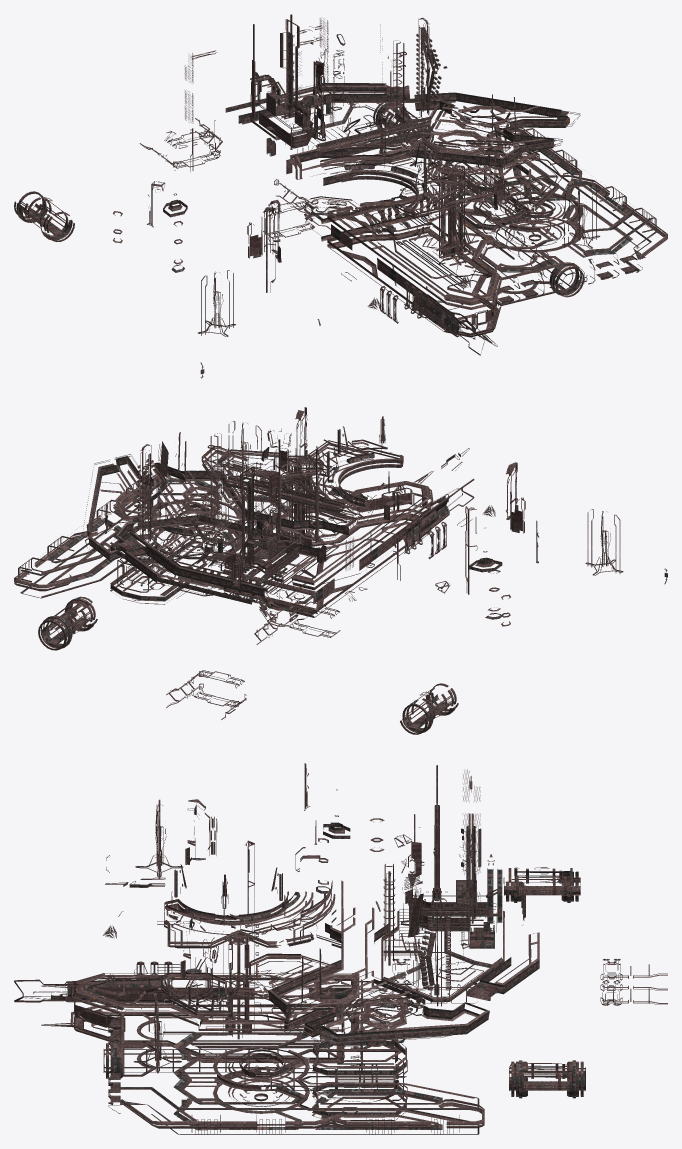
3 views of the same model, one above another, from view 1: azimuth 30°, elevation 25°; view 2: azimuth 150°, elevation 25°; view 3: azimuth 270°, elevation 25° (orthographic). The views are drawn at different scales.
Parts seen in each view (by area): view 1: _gltfNode_2.001; view 2: _gltfNode_2.001; view 3: _gltfNode_2.001.
Part boxes in pixels (left/top/right/bottom): _gltfNode_2.001: left=14, top=14, right=667, bottom=378; _gltfNode_2.001: left=14, top=407, right=667, bottom=734; _gltfNode_2.001: left=14, top=763, right=667, bottom=1134.
Size of the model in its own units: 8.35 by 3.5 by 8.71.
Materials: 1 (1 with a texture image).
